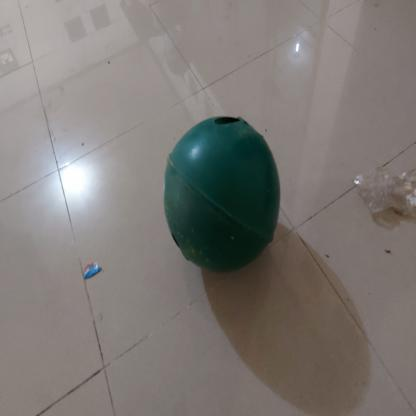green_buoy: (161, 110, 284, 277)
